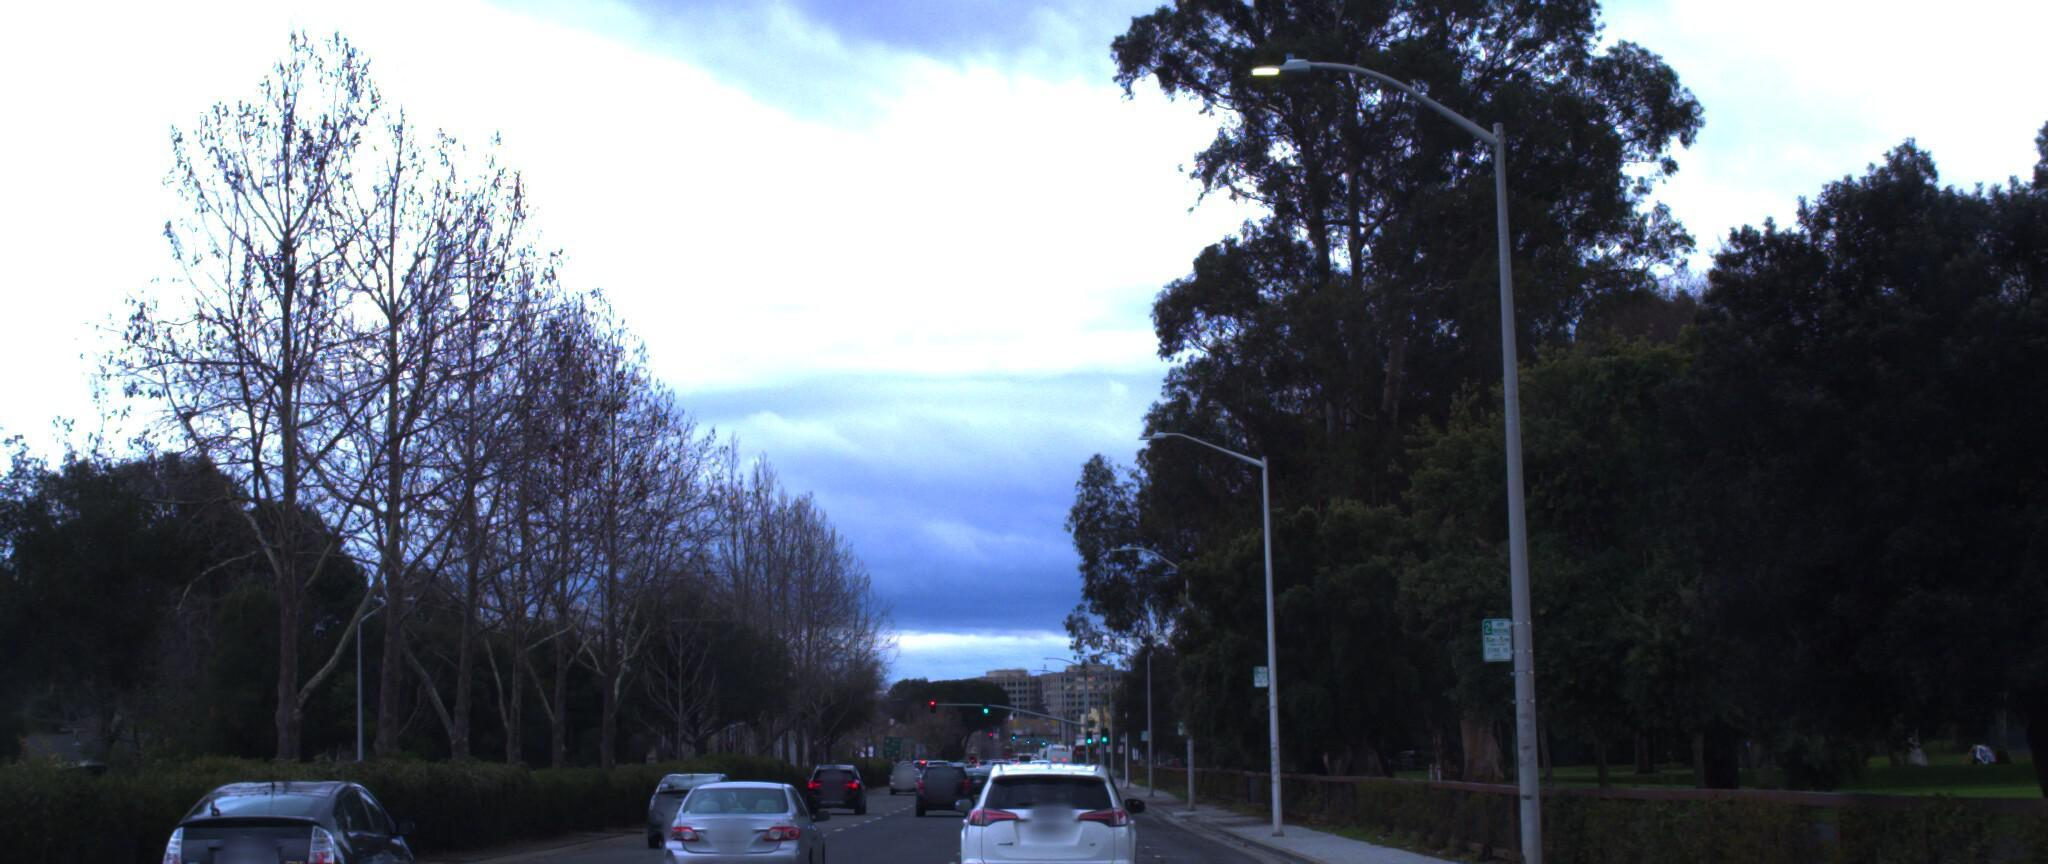car: (142, 774, 418, 864), (940, 747, 1125, 864), (650, 774, 825, 864)
